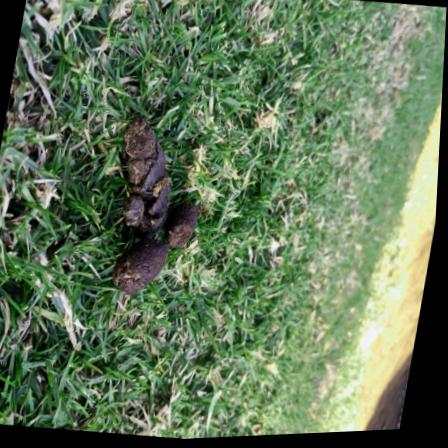dog-poop: (94, 101, 237, 315)
